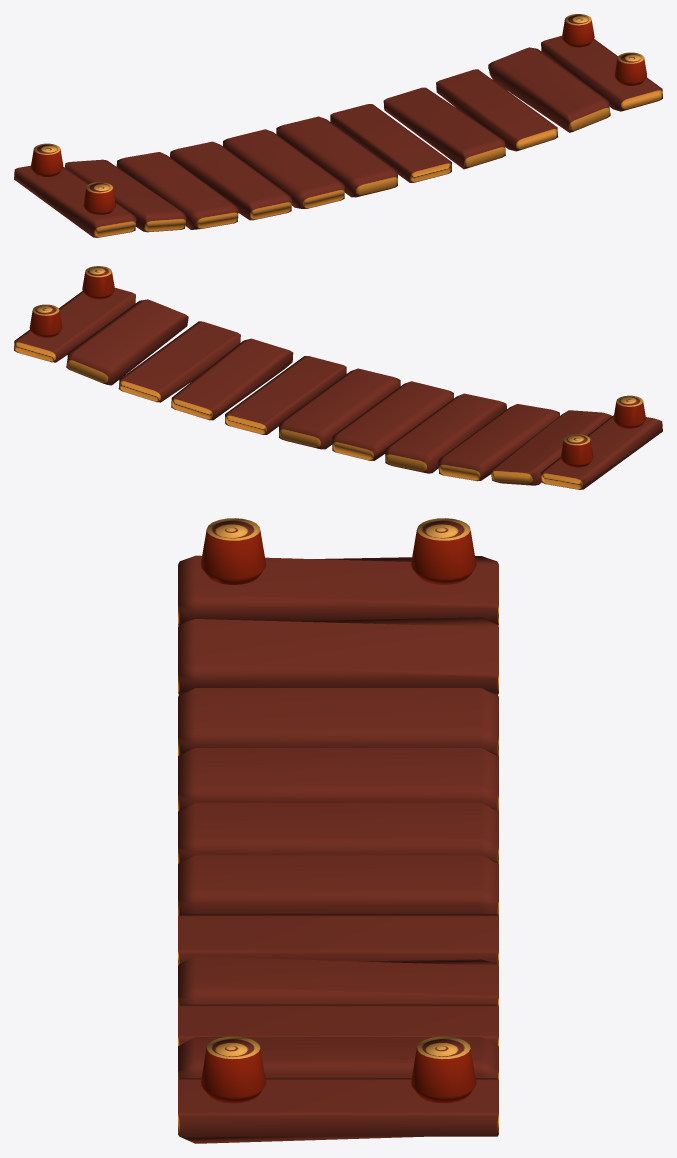
Rendered from BridgeStaticLow.fbx.
3 renders of one model, top to bottom at view 1: azimuth 30°, elevation 25°; view 2: azimuth 150°, elevation 25°; view 3: azimuth 270°, elevation 25°, orthographic. The views are drawn at different scales.
Parts seen in each view (by area): view 1: BridgeStatic4; view 2: BridgeStatic4; view 3: BridgeStatic4.
Boxes of the visible parts, <box> form: BridgeStatic4: <box>14,14,662,237</box>; BridgeStatic4: <box>14,266,662,489</box>; BridgeStatic4: <box>178,518,498,1143</box>.
Bounding box in the file's own units: 8.06 × 0.8479 × 1.96.
